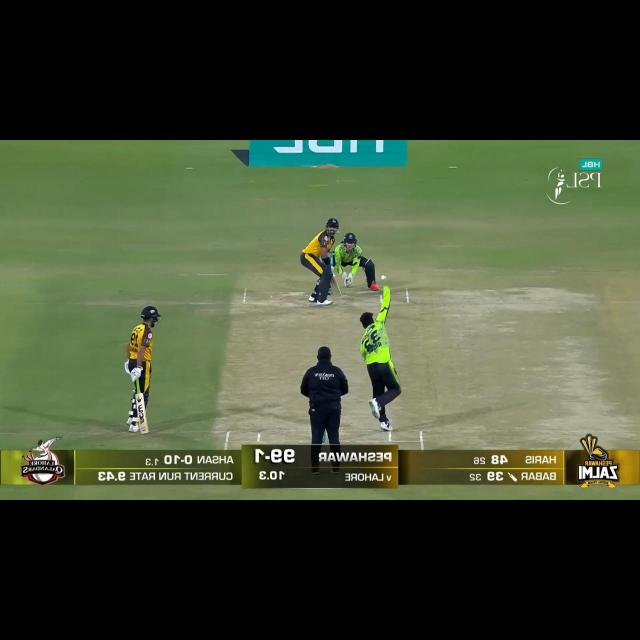bat: (134, 395, 152, 434), (330, 274, 342, 300)
toe: (138, 428, 149, 434), (334, 292, 342, 296)
